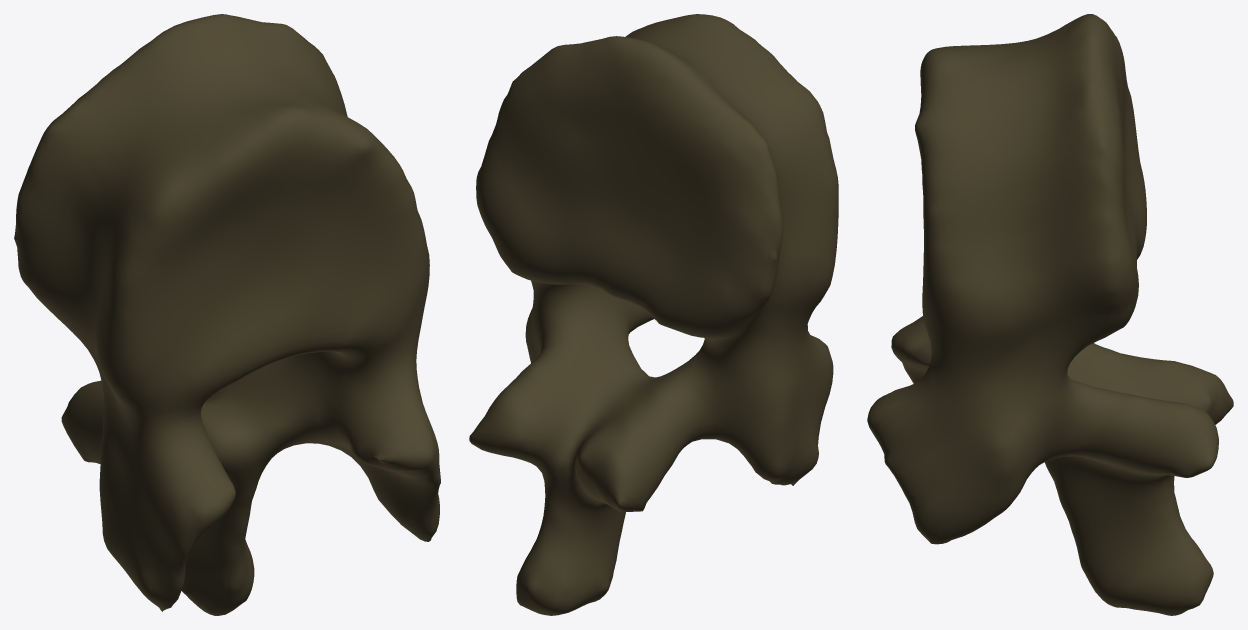
File: segmentations_vertebrae_T12.obj
3 views of the same model, side by side, from view 1: azimuth 30°, elevation 25°; view 2: azimuth 150°, elevation 25°; view 3: azimuth 270°, elevation 25° (orthographic). The views are drawn at different scales.
Visible parts, largest first — view 1: grp1; view 2: grp1; view 3: grp1.
Part boxes in pixels (x1=…): grp1: x1=14, y1=14, x2=440, y2=615; grp1: x1=469, y1=14, x2=838, y2=615; grp1: x1=867, y1=14, x2=1233, y2=615.
Size of the model in its own units: 30.15 by 52.29 by 30.7.
